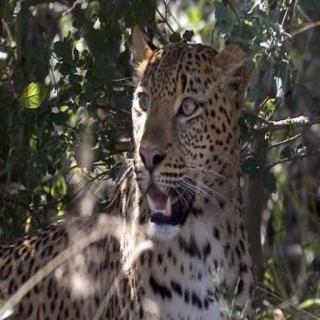Leopard: (92, 6, 288, 320)
